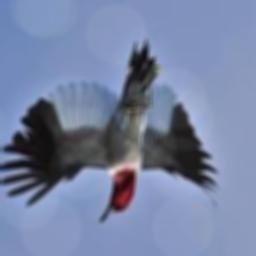Woodpecker: (0, 40, 219, 222)
